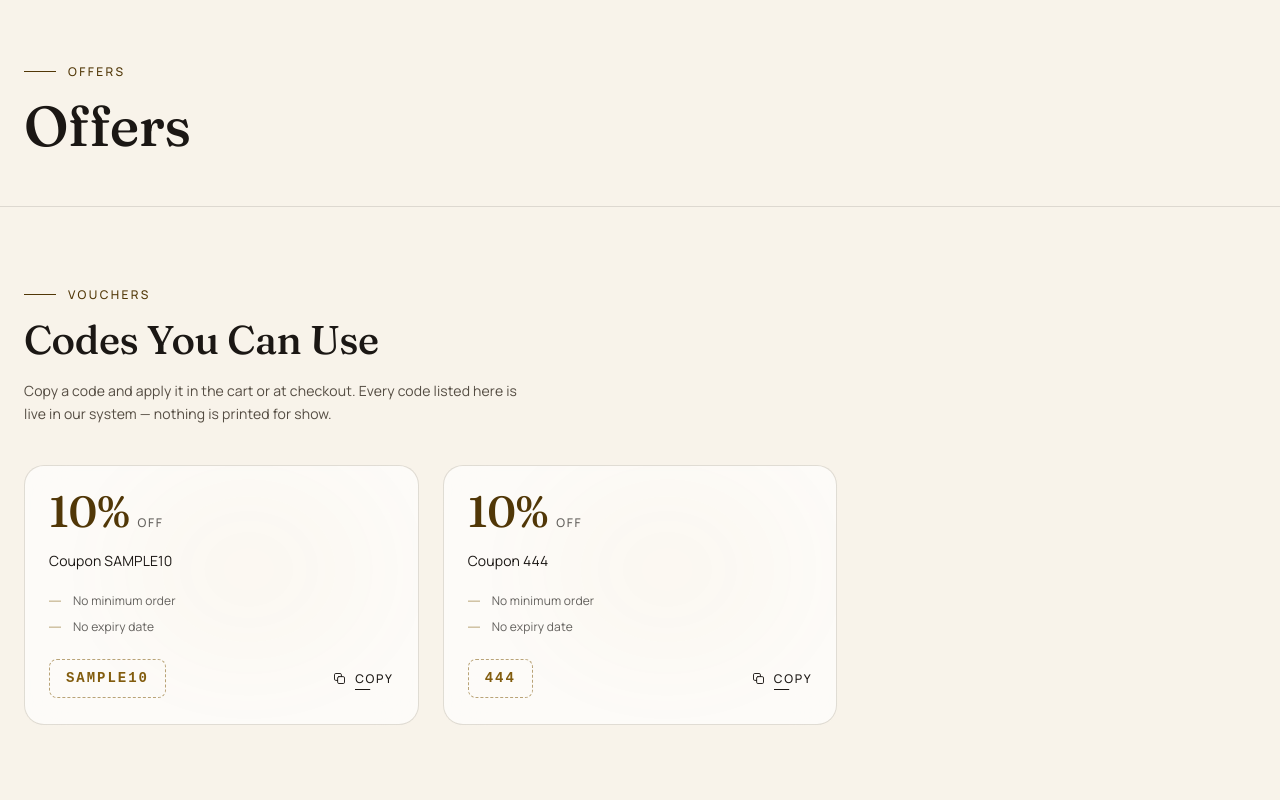
Test: the voucher Copy control › never goes quiet on a refusal: the code is selected and the button says what to do
Click the button with aria-label "Copy coupon code SAMPLE10": (363, 678) [324, 656, 402, 700]
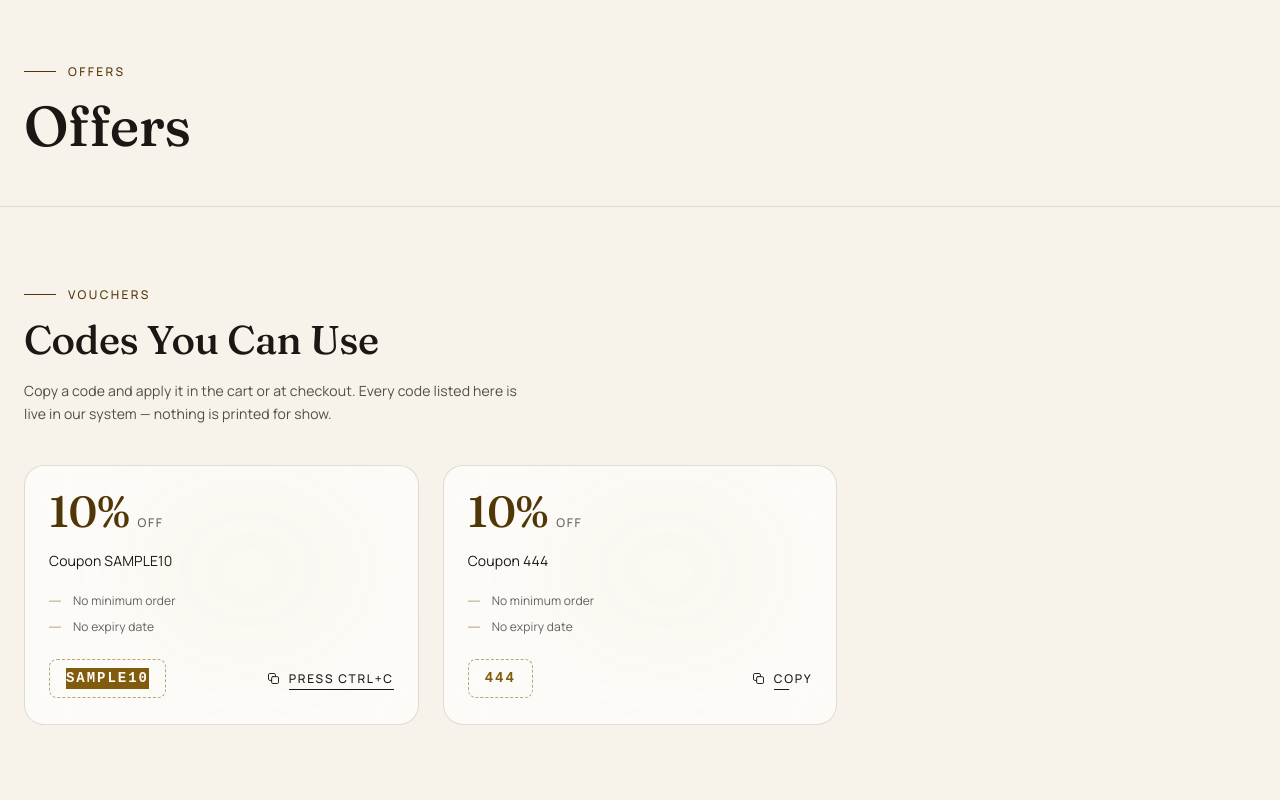
expect the button with aria-label "Copy coupon code SAMPLE10" does not show "Copied": met, box [258, 656, 402, 700]
expect the text "Press Ctrl+C" is shown: met, box [289, 671, 394, 686]
